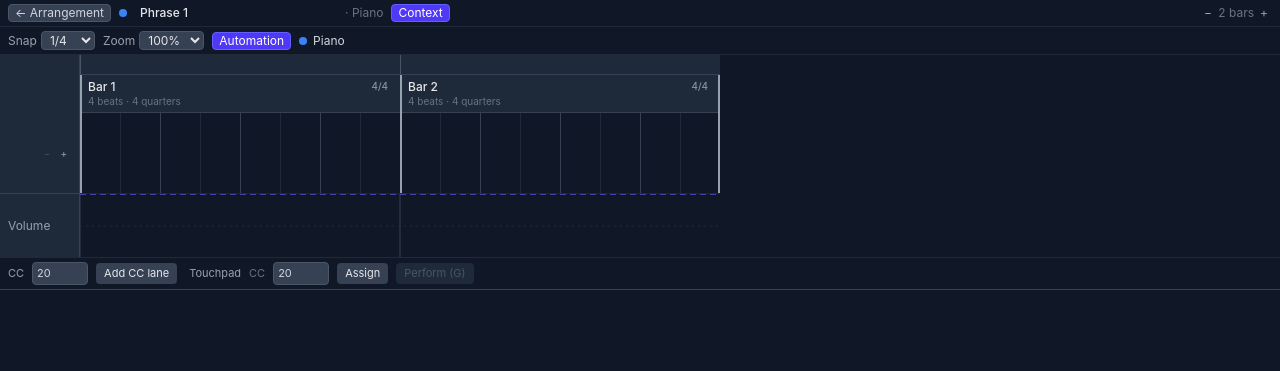
Test: ChordTimeline MIDI CC lanes › adding a lane by number › moves the suggestion on once a controller has a lane
Click the button "Add CC lane" at (137, 274), box left=96, top=263, right=177, bottom=284
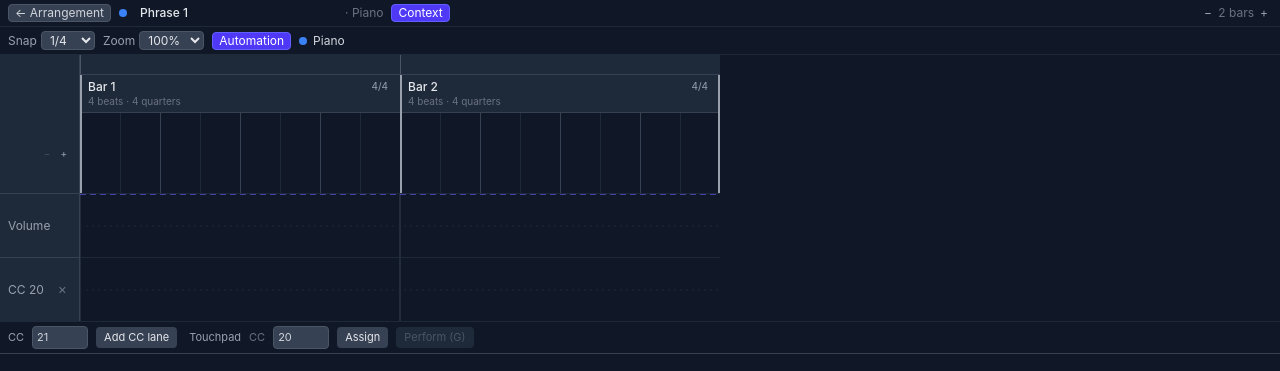
Now the number field named "Controller number to automate" holds "21", box left=32, top=326, right=88, bottom=349
